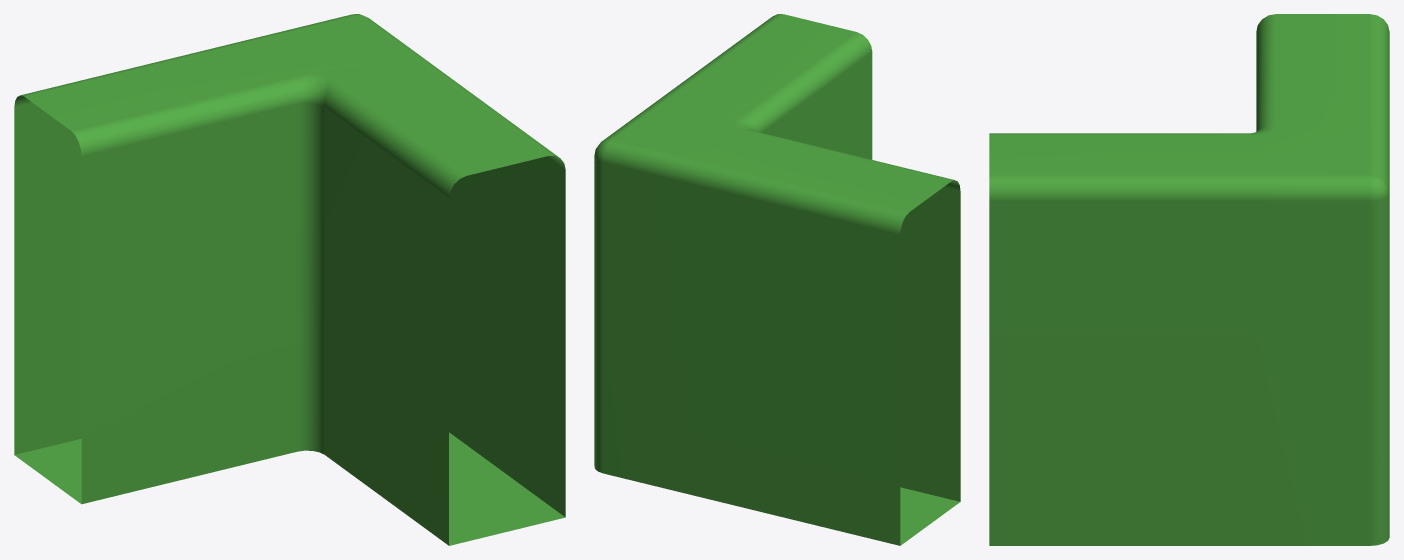
The model's file is Hedge Corner.fbx.
3 views of the same model, side by side, from view 1: azimuth 30°, elevation 25°; view 2: azimuth 150°, elevation 25°; view 3: azimuth 270°, elevation 25° (orthographic). The views are drawn at different scales.
Parts seen in each view (by area): view 1: pCube2; view 2: pCube2; view 3: pCube2.
Boxes of the visible parts, x1,y1,x2,y2 form: pCube2: (14, 14, 565, 545); pCube2: (594, 14, 960, 545); pCube2: (989, 14, 1389, 545).
Size of the model in its own units: 3 by 3 by 3.
